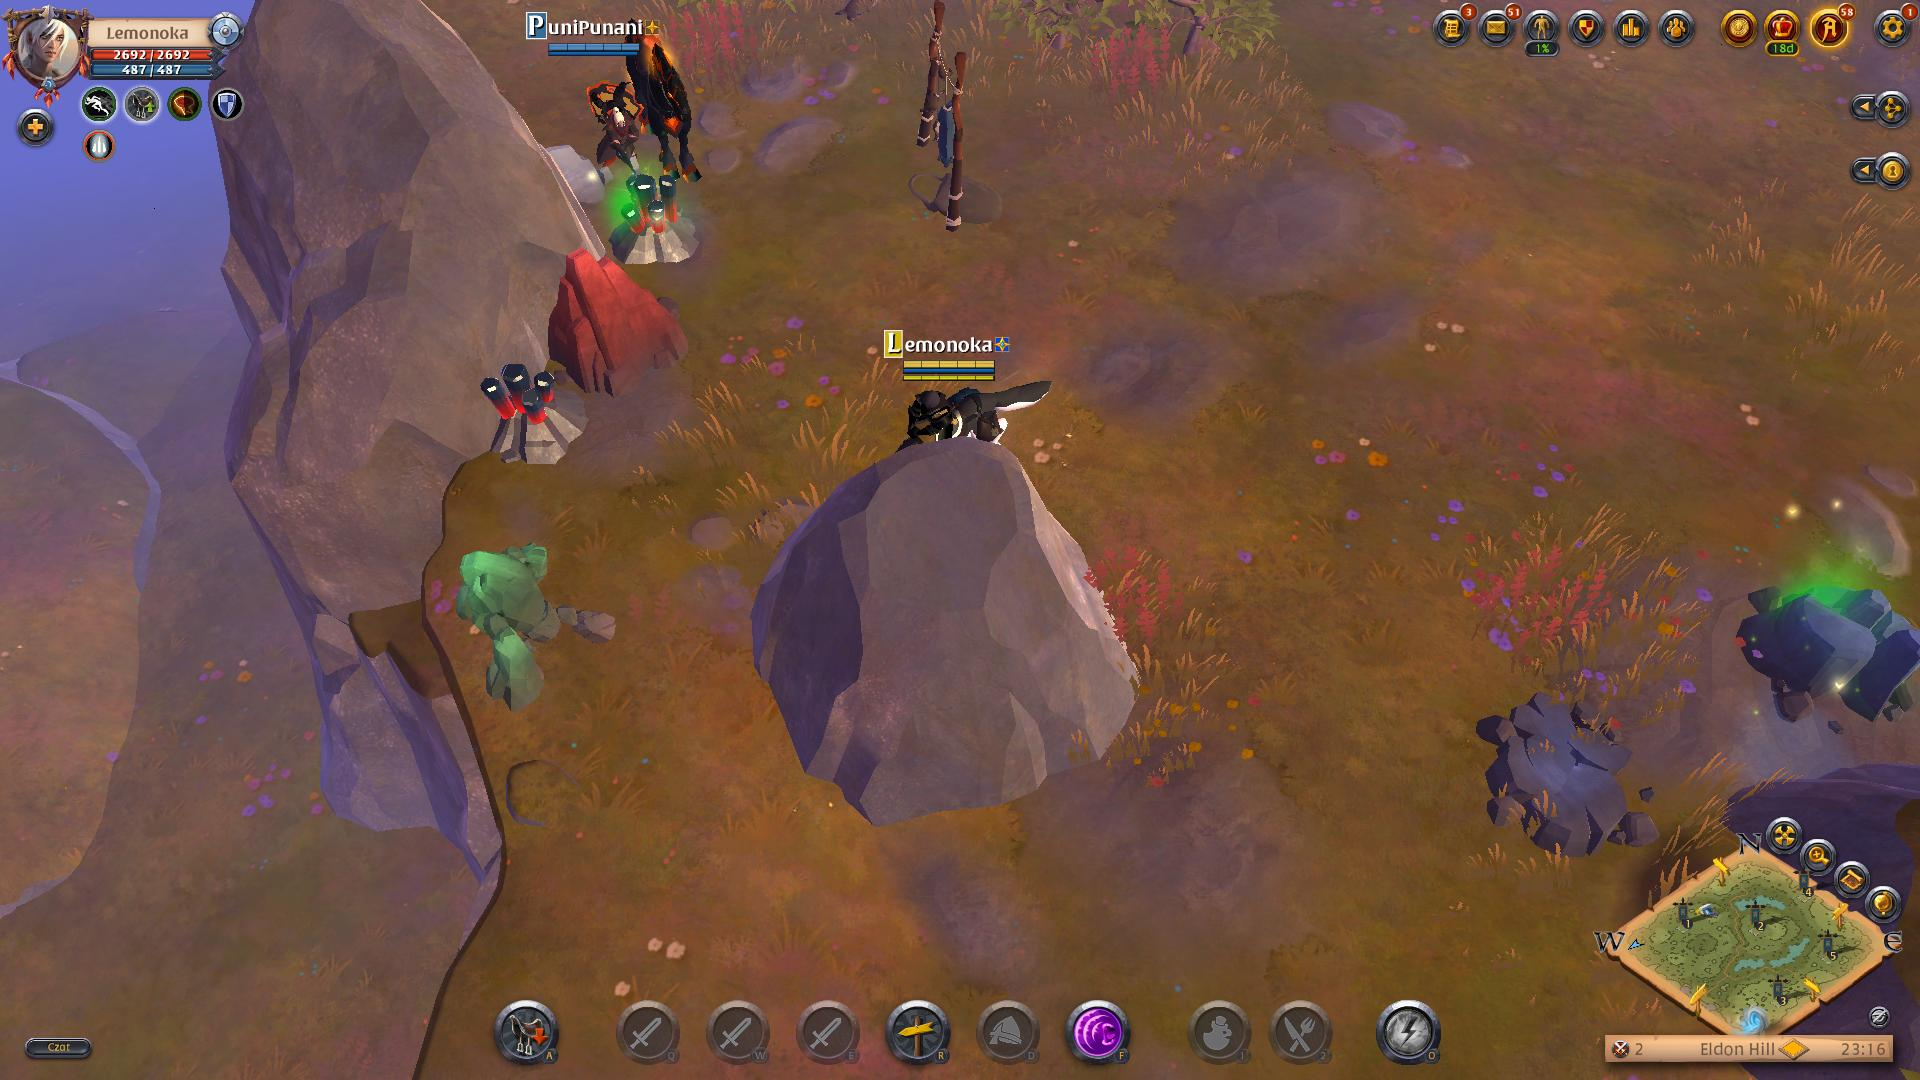ore tier 5: (473, 360, 589, 467), (600, 170, 702, 273)
rock tier 4: (1731, 567, 1920, 732)
rock tier 5: (545, 251, 692, 409)
